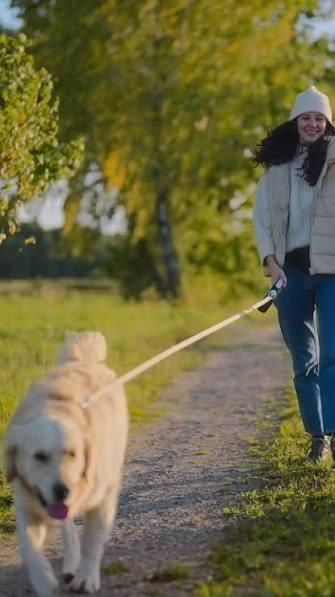adult_dog: (0, 328, 134, 597)
